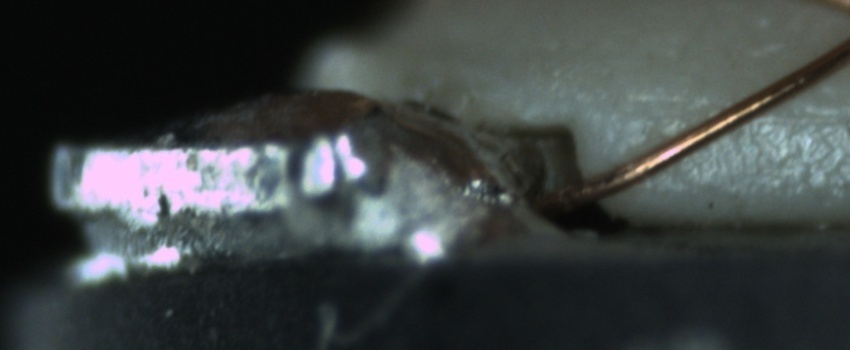DL: (630, 85, 850, 142)
